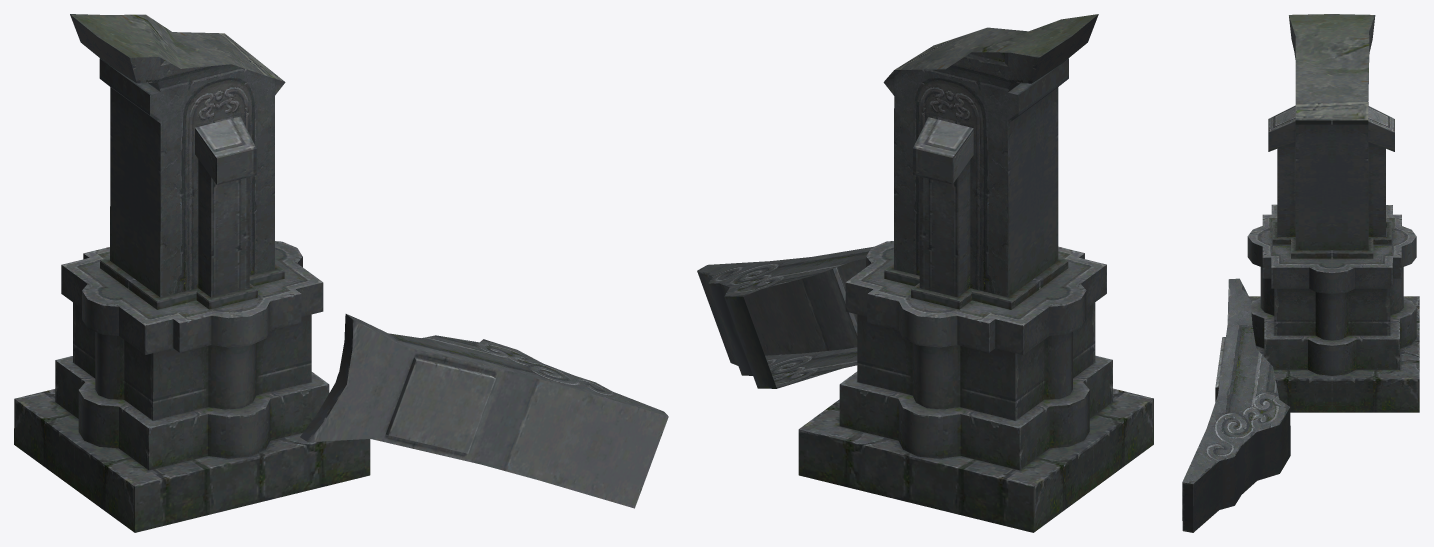
The model's file is dx_bei_broken_1.FBX.
3 views of the same model, side by side, from view 1: azimuth 30°, elevation 25°; view 2: azimuth 150°, elevation 25°; view 3: azimuth 270°, elevation 25° (orthographic). The views are drawn at different scales.
Parts seen in each view (by area): view 1: dx_bei_broken_1; view 2: dx_bei_broken_1; view 3: dx_bei_broken_1.
Part boxes in pixels (x1,y1,x2,y2): dx_bei_broken_1: [14, 14, 668, 532]; dx_bei_broken_1: [697, 14, 1153, 532]; dx_bei_broken_1: [1182, 14, 1419, 532].
Size of the model in its own units: 610 by 595 by 351.
